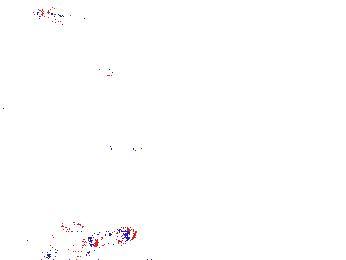red belly glassfish: (32, 7, 88, 26), (90, 65, 134, 81)
redtail glassfish: (36, 223, 139, 260), (99, 130, 145, 161)
